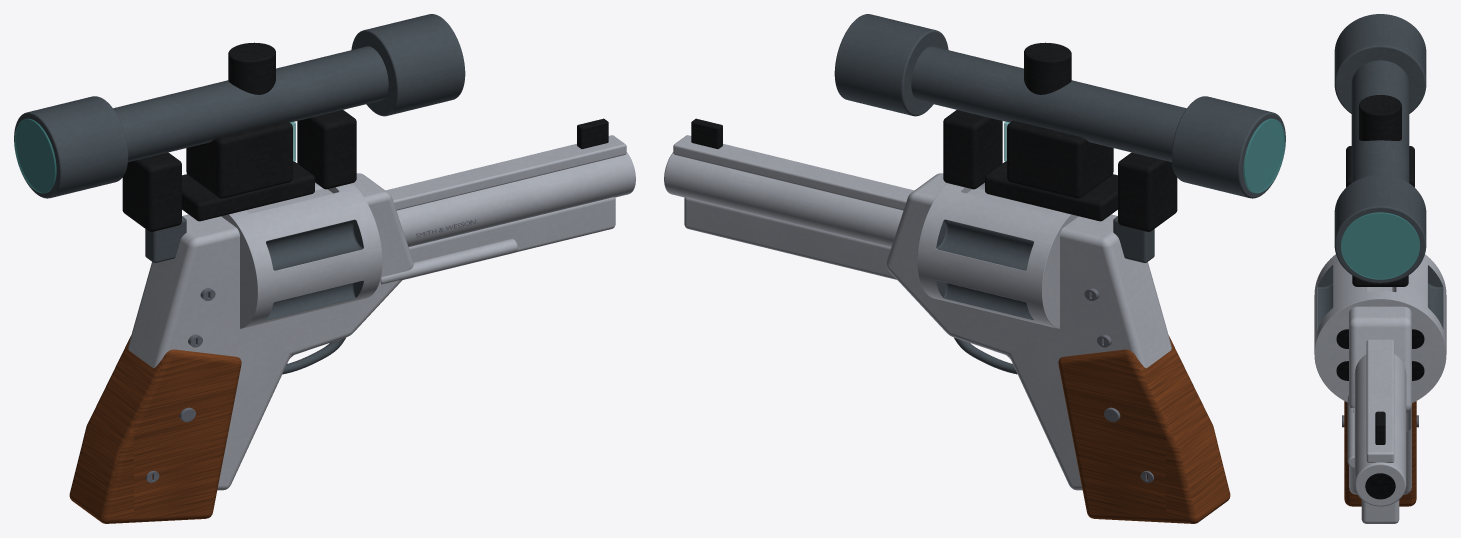
File: revolver.glb
The picture shows the model from 3 angles, left to right: view 1: azimuth 30°, elevation 25°; view 2: azimuth 150°, elevation 25°; view 3: azimuth 270°, elevation 25°; orthographic projection. The views are drawn at different scales.
Parts seen in each view (by area): view 1: Revolver frame, Walnut grip, Cylinder, optic_scope_tube.005, Barrel.004, optic_scope_bell.010, optic_scope_bell.011, optic_red_body.005, Top rib, Underlug, optic_scope_mount.010, optic_scope_mount.011 (+6 smaller); view 2: Revolver frame, Walnut grip, Cylinder, optic_scope_tube.005, Barrel.004, optic_scope_bell.010, optic_scope_bell.011, Underlug, optic_red_body.005, Top rib, optic_scope_mount.010, optic_scope_mount.011 (+5 smaller); view 3: Cylinder, optic_scope_bell.011, optic_scope_bell.010, optic_scope_tube.005, optic_scope_glass.011, Revolver frame, Barrel.004, Top rib, optic_scope_turret.005, Walnut grip, Underlug, Muzzle bore.003 (+8 smaller).
Boxes of the visible parts, x1,y1,x2,y2 form: Revolver frame: (128, 173, 413, 490); Walnut grip: (69, 335, 241, 523); Cylinder: (221, 182, 382, 328); optic_scope_tube.005: (113, 46, 388, 162); Barrel.004: (396, 152, 635, 246); optic_scope_bell.010: (14, 96, 128, 198); optic_scope_bell.011: (351, 14, 465, 116); optic_red_body.005: (186, 120, 292, 198); Top rib: (385, 135, 626, 210); Underlug: (408, 197, 615, 262); optic_scope_mount.010: (122, 152, 181, 231); optic_scope_mount.011: (297, 110, 356, 189); Revolver frame: (886, 173, 1171, 490); Walnut grip: (1058, 335, 1230, 523); Cylinder: (917, 182, 1078, 328); optic_scope_tube.005: (911, 46, 1186, 162); Barrel.004: (664, 152, 903, 246); optic_scope_bell.010: (1171, 96, 1285, 198); optic_scope_bell.011: (834, 14, 948, 116); Underlug: (684, 197, 896, 279); optic_red_body.005: (1007, 120, 1113, 198); Top rib: (673, 135, 914, 210); optic_scope_mount.010: (1118, 152, 1177, 231); optic_scope_mount.011: (943, 110, 1002, 189); Cylinder: (1314, 254, 1446, 402); optic_scope_bell.011: (1334, 174, 1426, 283); optic_scope_bell.010: (1334, 14, 1426, 113); optic_scope_tube.005: (1351, 60, 1409, 182); optic_scope_glass.011: (1341, 212, 1419, 279); Revolver frame: (1349, 287, 1411, 494); Barrel.004: (1354, 354, 1406, 506); Top rib: (1366, 339, 1394, 462); optic_scope_turret.005: (1359, 95, 1401, 140); Walnut grip: (1344, 401, 1416, 506); Underlug: (1361, 500, 1399, 523); Muzzle bore.003: (1365, 473, 1395, 499).
Bounding box in the file's own units: 1.06 × 0.7559 × 0.21.
7 materials, 6 textured.
